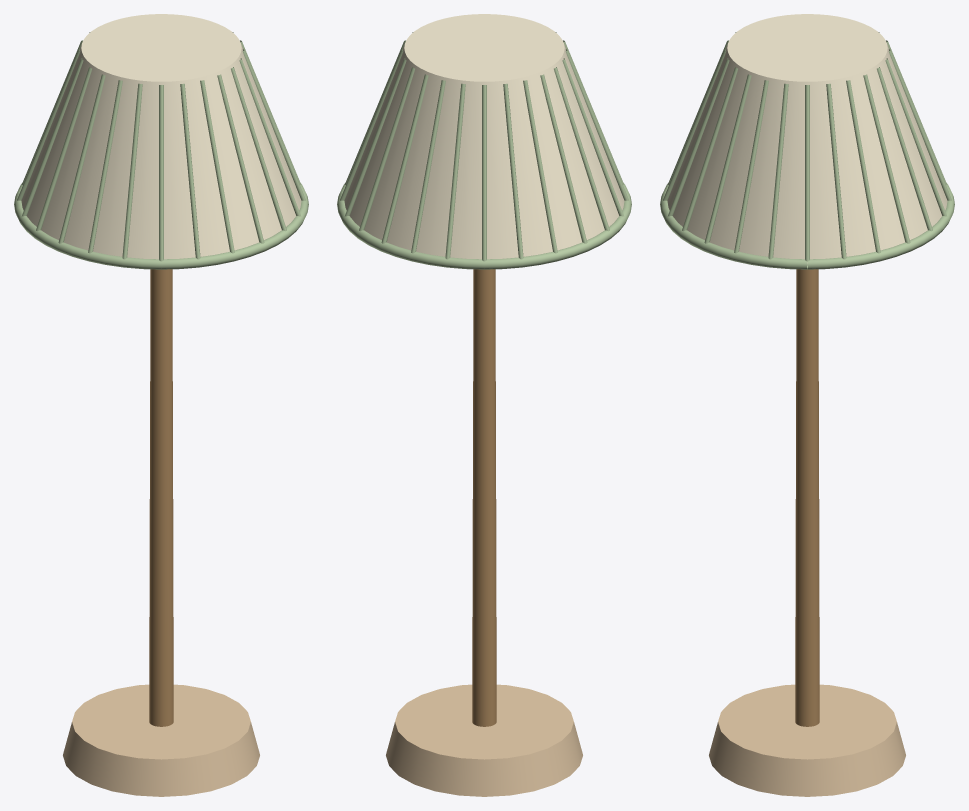
The model's file is botanic-lamp.glb.
The picture shows the model from 3 angles, left to right: view 1: azimuth 30°, elevation 25°; view 2: azimuth 150°, elevation 25°; view 3: azimuth 270°, elevation 25°; orthographic projection.
Visible parts, largest first — view 1: Base.003; view 2: Base.003; view 3: Base.003.
Part boxes in pixels (x1,y1,x2,y2): Base.003: (14, 14, 308, 796); Base.003: (337, 14, 631, 796); Base.003: (660, 14, 954, 796).
Size of the model in its own units: 0.956 by 2.53 by 0.956.
